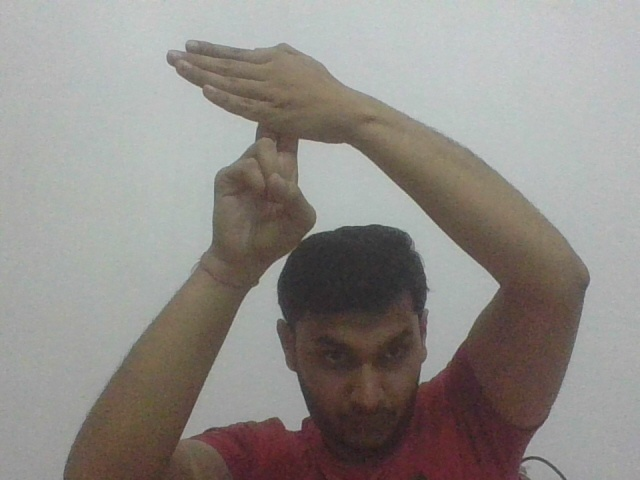N: (160, 34, 348, 168)
